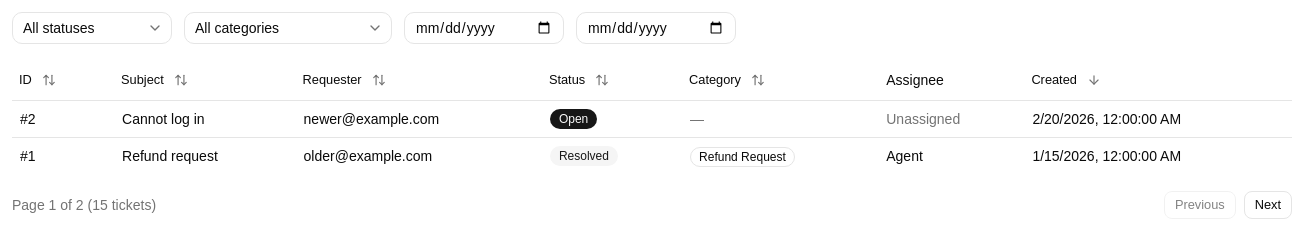
Test case: TicketsTable › disables Next once on the last page
Expected: the table is shown, x1=12 y1=60 x2=1292 y2=174
Click the button "Next" at (1268, 204), box x1=1244 y1=190 x2=1292 y2=218
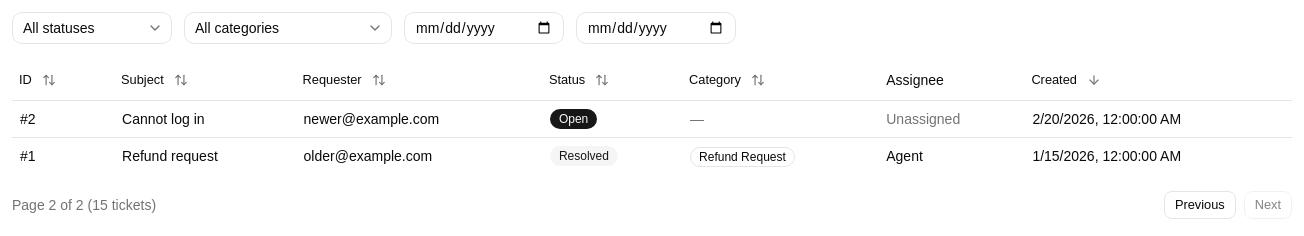
Now the text "Page 2 of 2 (15 tickets)" is shown, box x1=12 y1=194 x2=156 y2=214
Now the button "Next" is disabled, box x1=1244 y1=190 x2=1292 y2=218
Now the button "Previous" is enabled, box x1=1164 y1=190 x2=1236 y2=218
